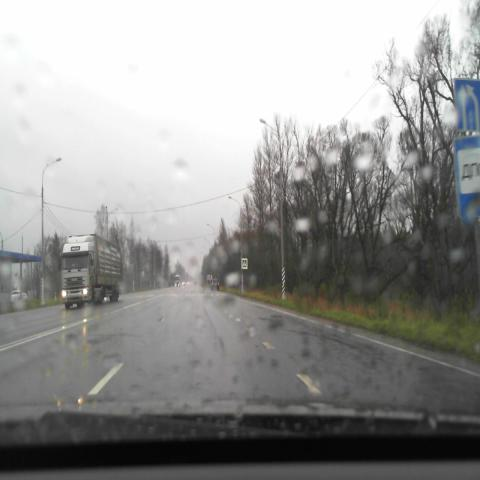5_15_5: (454, 79, 480, 131)
7_12: (454, 136, 480, 218)
